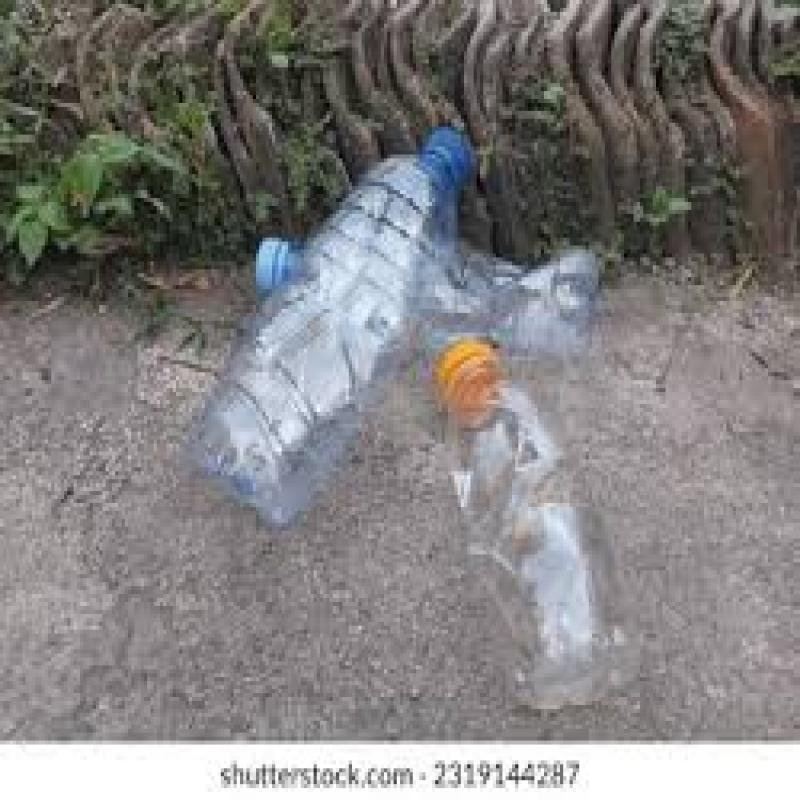botella: (213, 124, 483, 522), (436, 348, 657, 709), (251, 218, 596, 364)
